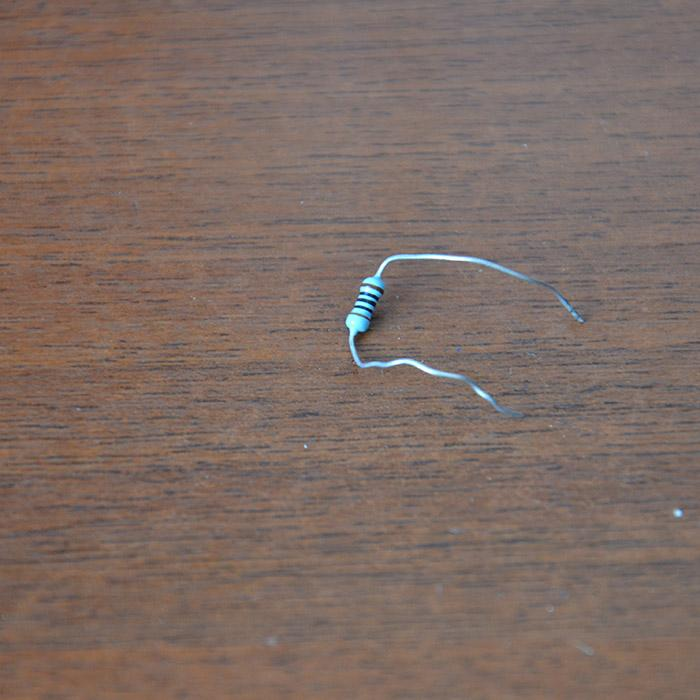resistor: (345, 276, 386, 333)
